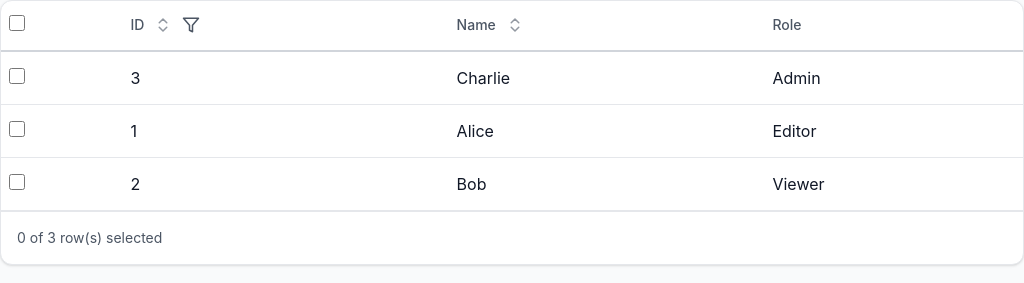
DataTable Component › Row selection › selects all rows with the header checkbox
Click the checkbox named "select all rows" at x=17, y=23, box x1=9 y1=15 x2=25 y2=31
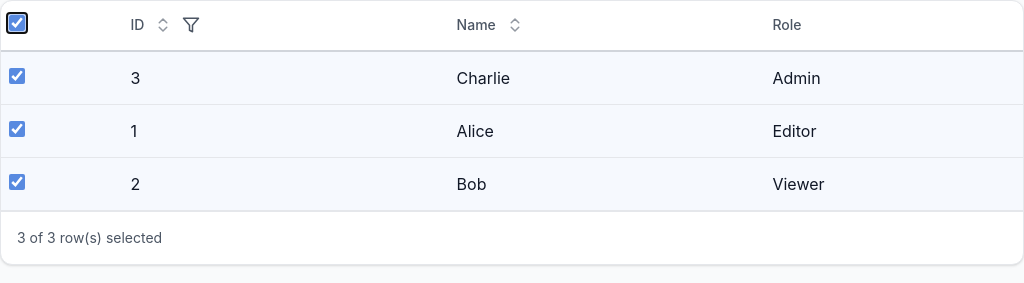
Result: the text "3 of 3 row(s) selected" is shown at x1=17 y1=228 x2=162 y2=248
